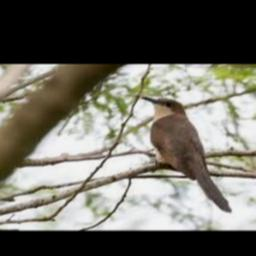Cuckoo: (142, 97, 232, 212)
